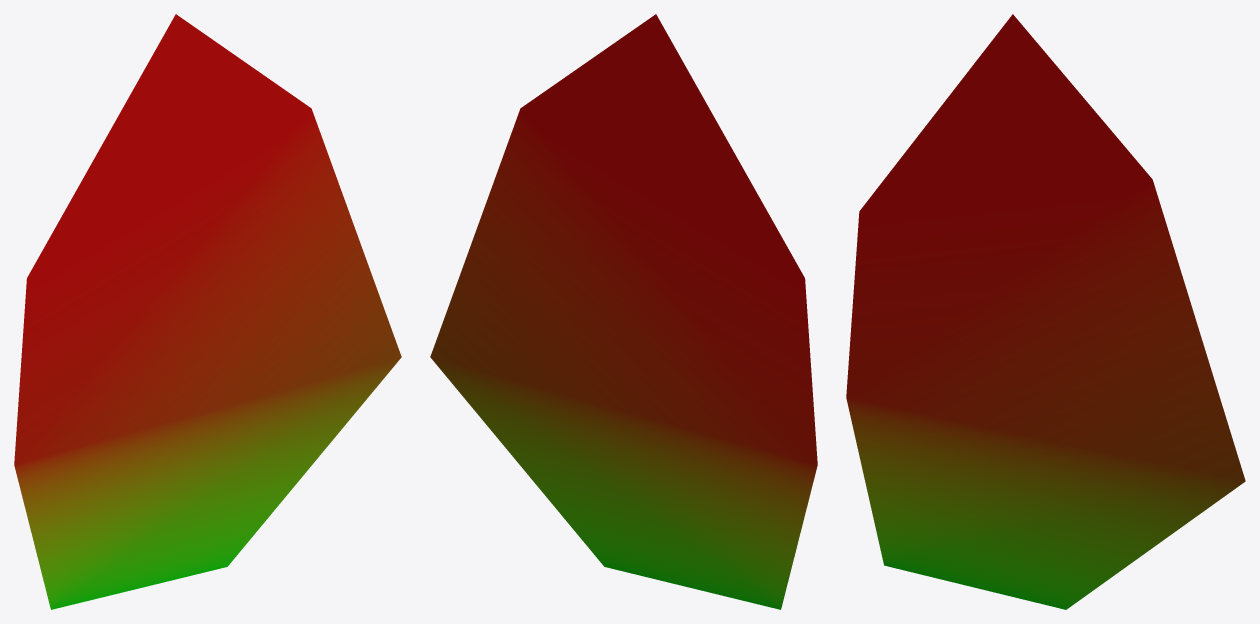
File: Var1_LOD3.fbx
The picture shows the model from 3 angles, left to right: view 1: azimuth 30°, elevation 25°; view 2: azimuth 150°, elevation 25°; view 3: azimuth 330°, elevation 25°; orthographic projection. The views are drawn at different scales.
Visible parts, largest first — view 1: _5b12_Var1_LOD3; view 2: _5b12_Var1_LOD3; view 3: _5b12_Var1_LOD3.
Part boxes in pixels (x1,y1,x2,y2): _5b12_Var1_LOD3: [14, 14, 401, 609]; _5b12_Var1_LOD3: [430, 14, 817, 609]; _5b12_Var1_LOD3: [846, 14, 1245, 609].
Size of the model in its own units: 83.55 by 117 by 1.53e-05.
